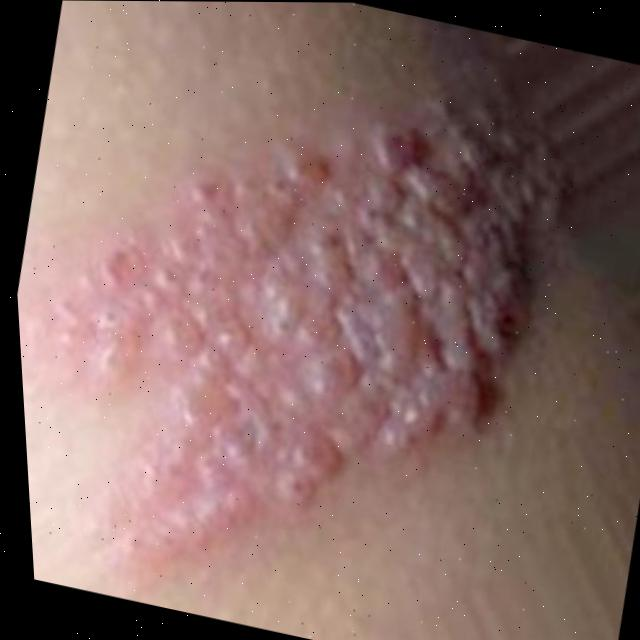Shingles: (15, 30, 598, 595)
